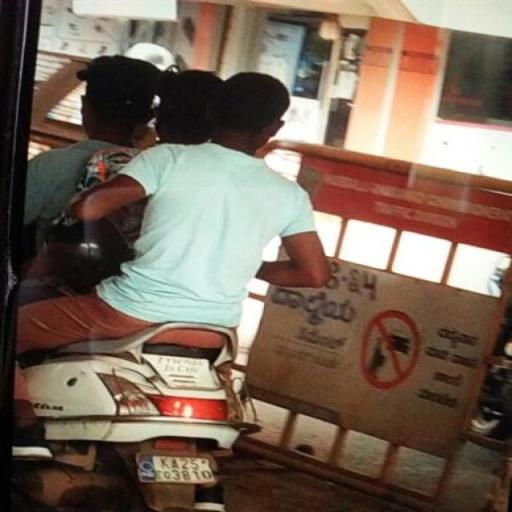tripple riding: (20, 51, 342, 321)
